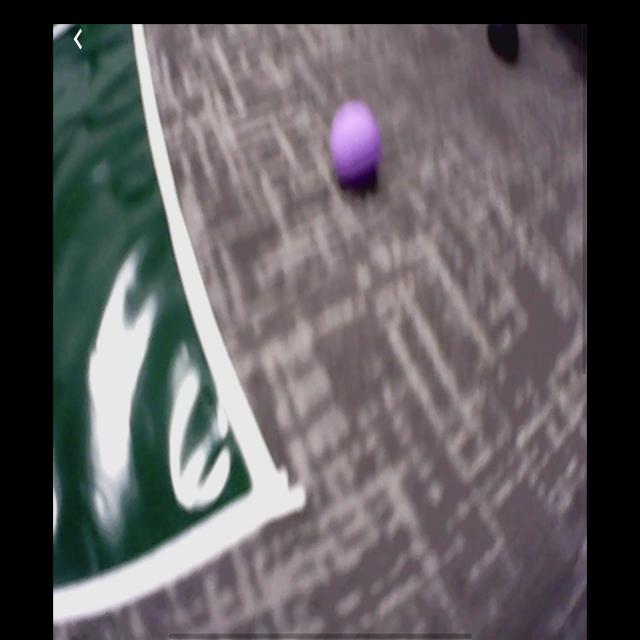ball: (330, 99, 383, 193)
